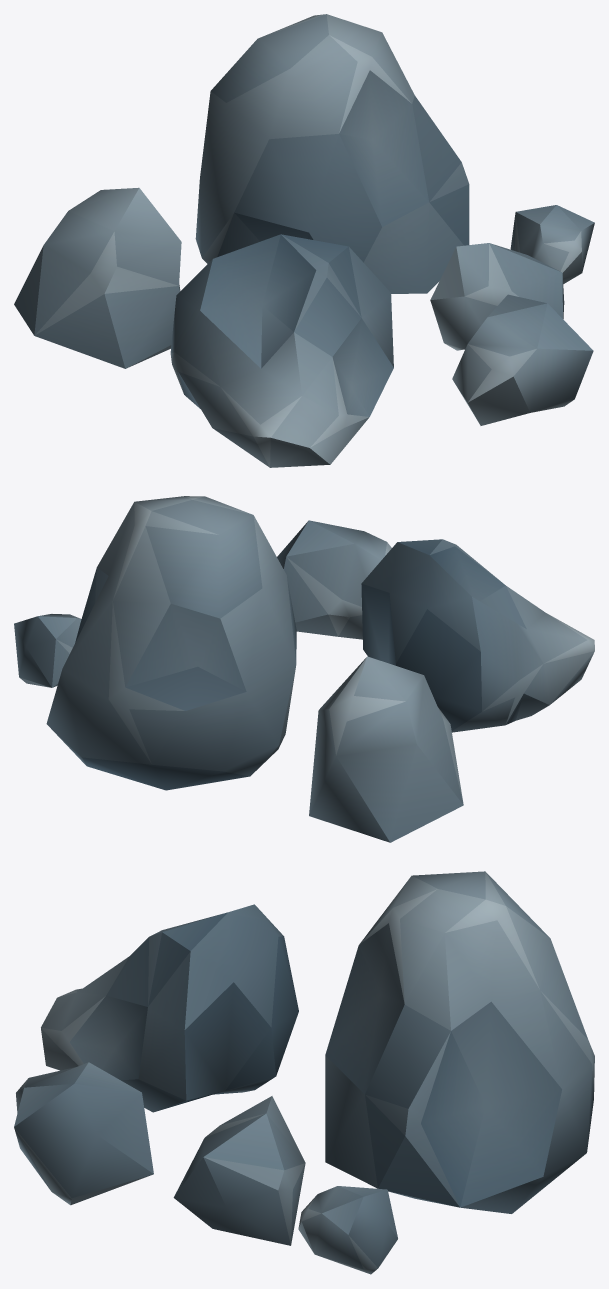
File: Iron_Nuggets.glb
3 views of the same model, one above another, from view 1: azimuth 30°, elevation 25°; view 2: azimuth 150°, elevation 25°; view 3: azimuth 270°, elevation 25° (orthographic). The views are drawn at different scales.
Visible parts, largest first — view 1: Iron_Nuggets; view 2: Iron_Nuggets; view 3: Iron_Nuggets.
Part boxes in pixels (x1,y1,x2,y2): Iron_Nuggets: (14,14,594,467); Iron_Nuggets: (14,496,594,842); Iron_Nuggets: (14,871,594,1274).
Size of the model in its own units: 0.9288 by 0.4749 by 0.8501.
Materials: 1 (1 with a texture image).
